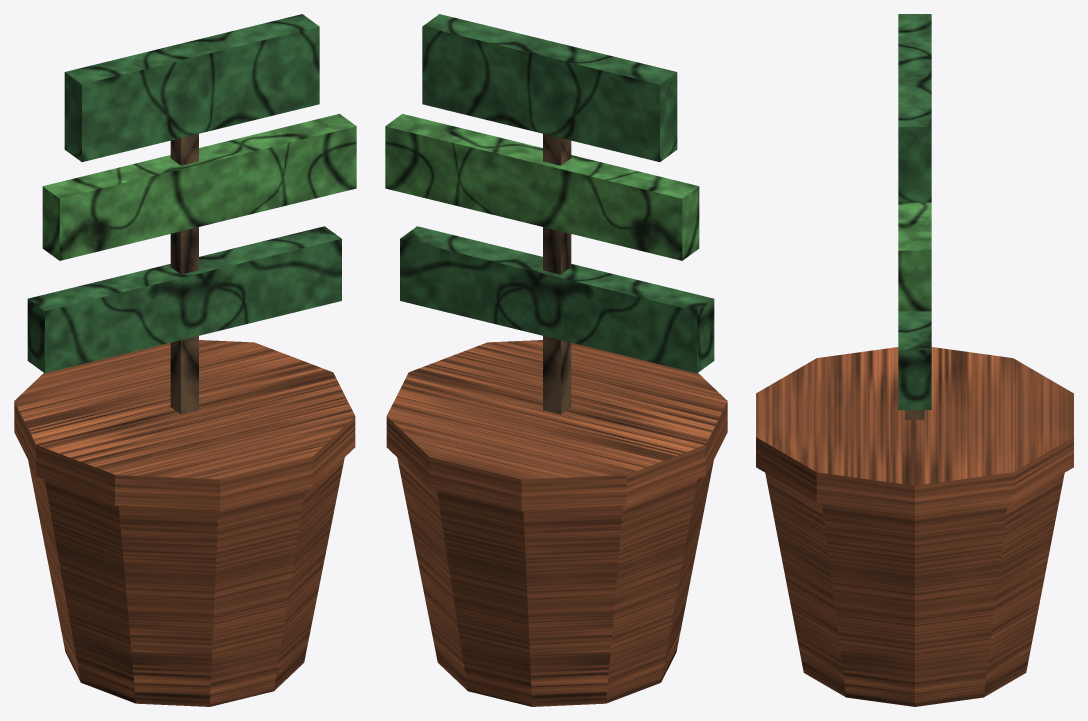
Rendered from terrace_planter.fbx.
The picture shows the model from 3 angles, left to right: view 1: azimuth 30°, elevation 25°; view 2: azimuth 150°, elevation 25°; view 3: azimuth 270°, elevation 25°; orthographic projection. The views are drawn at different scales.
Parts seen in each view (by area): view 1: terrace_planter; view 2: terrace_planter; view 3: terrace_planter.
Part boxes in pixels (<box>): terrace_planter: <box>14,14,356,706</box>; terrace_planter: <box>385,14,727,706</box>; terrace_planter: <box>756,14,1073,706</box>.
Bounding box in the file's own units: 42 × 78 × 38.04.
